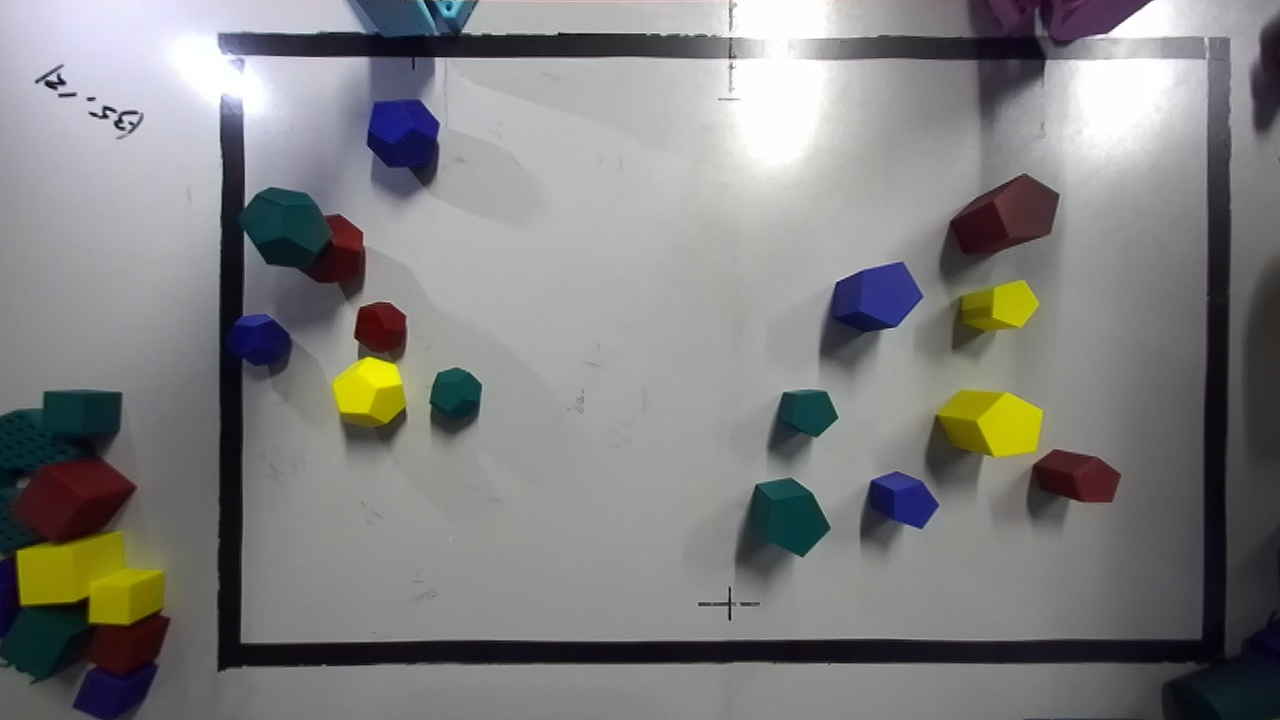dodecahedron: (237, 187, 331, 269), (367, 99, 439, 177), (303, 214, 365, 297), (332, 357, 404, 426), (225, 314, 291, 365), (429, 367, 481, 417), (354, 302, 406, 351)
hexagonal: (950, 174, 1059, 254), (936, 390, 1042, 456), (830, 262, 922, 331), (750, 477, 830, 556), (1032, 449, 1120, 502), (867, 471, 937, 528), (959, 280, 1038, 330), (777, 389, 837, 436)
